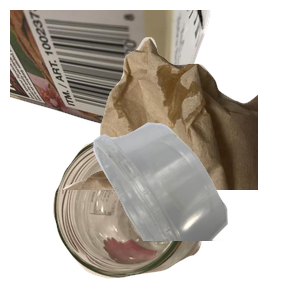cardboard: (10, 10, 213, 146)
glass: (50, 131, 252, 300)
plastic: (91, 120, 300, 300)
trash: (60, 35, 300, 215)
